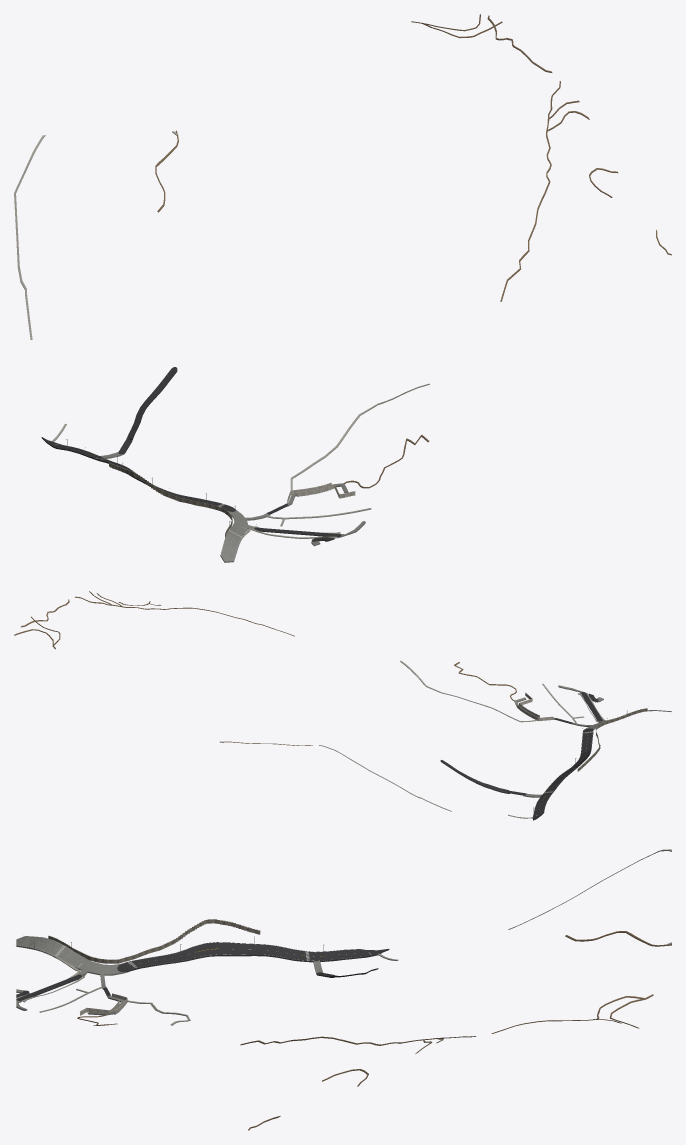
3 renders of one model, top to bottom at view 1: azimuth 30°, elevation 25°; view 2: azimuth 150°, elevation 25°; view 3: azimuth 270°, elevation 25°, orthographic. The views are drawn at different scales.
Bounding box in the file's own units: 588 × 208 × 585.
